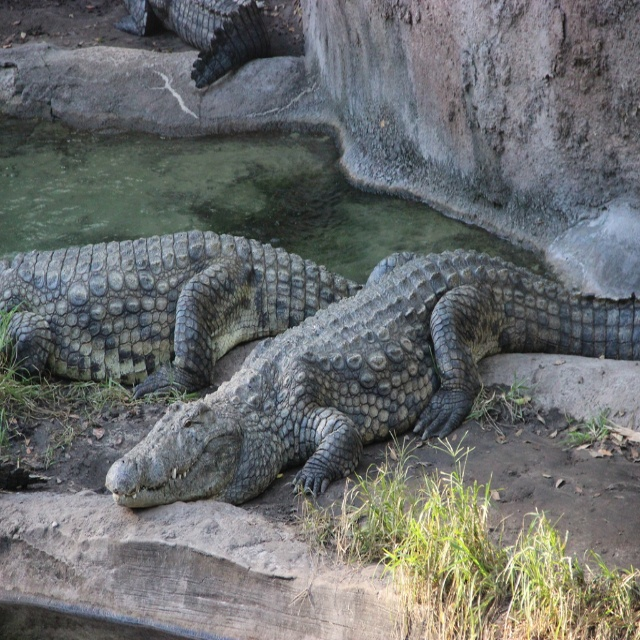Crocodile: (105, 249, 640, 507), (0, 229, 366, 402), (113, 0, 270, 89)
